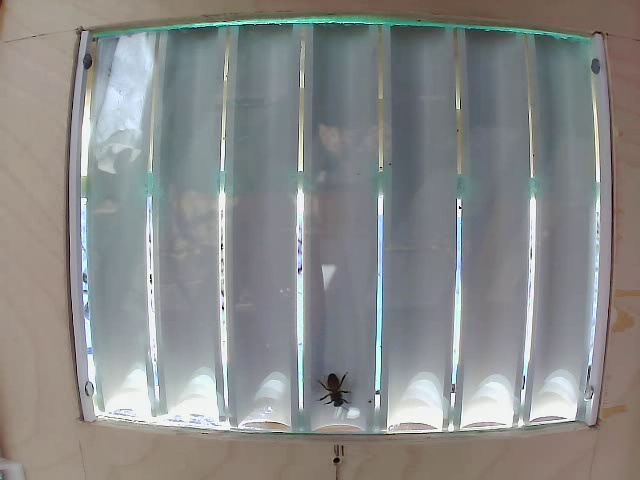bee: (307, 359, 352, 407)
